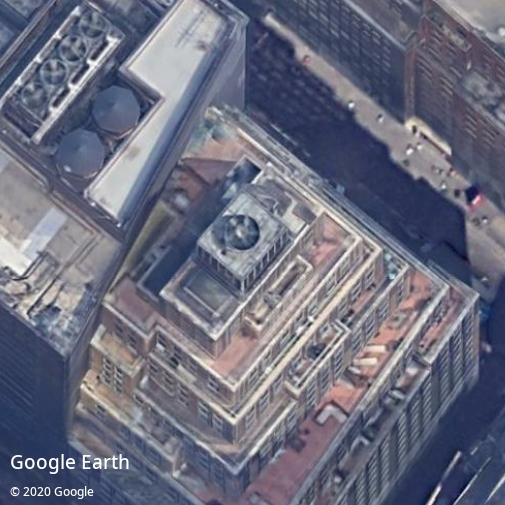Vent: (224, 215, 260, 251), (80, 12, 107, 40), (60, 35, 87, 63), (41, 59, 67, 86), (21, 82, 47, 109)
